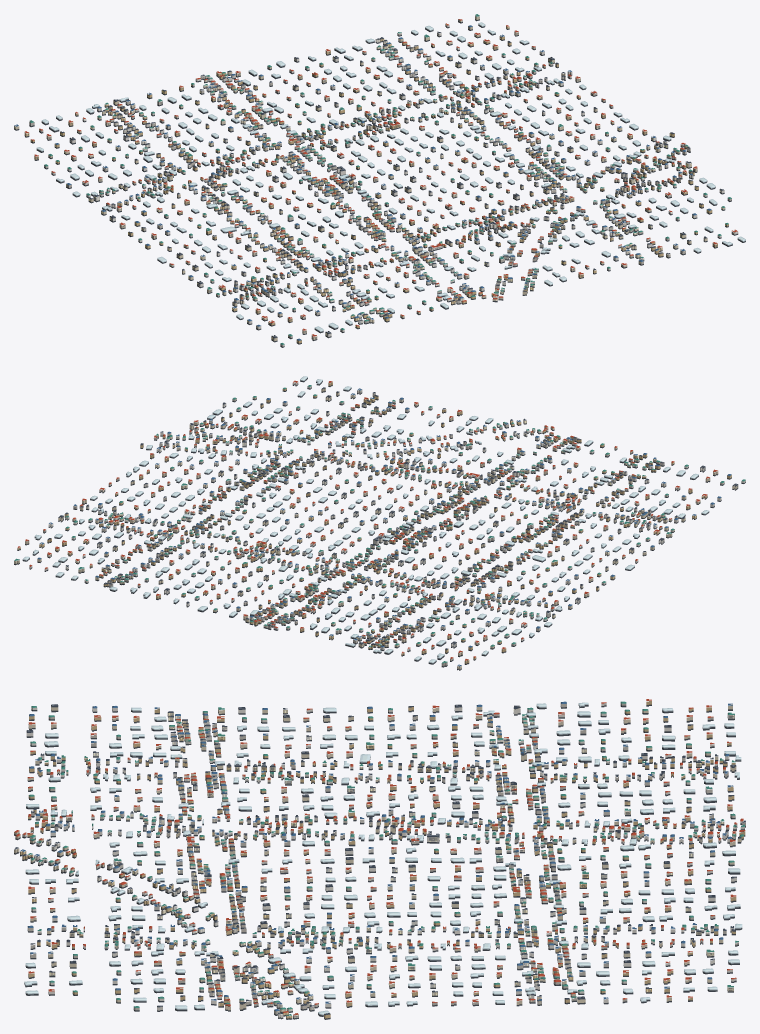
Rendered from osm_buildings_T_E00_N03.glb.
The picture shows the model from 3 angles, top to bottom: view 1: azimuth 30°, elevation 25°; view 2: azimuth 150°, elevation 25°; view 3: azimuth 270°, elevation 25°; orthographic projection. The views are drawn at different scales.
Visible parts, largest first — view 1: OSM_T_E00_N03_foundation, OSM_T_E00_N03_greenhouse_blend, OSM_T_E00_N03_wall_cream_stucco, OSM_T_E00_N03_wall_french_ochre, OSM_T_E00_N03_wall_warm_white, OSM_T_E00_N03_wall_pastel_sand, OSM_T_E00_N03_roof_terracotta, OSM_T_E00_N03_roof_mansard_slate, OSM_T_E00_N03_roof_mint_metal, OSM_T_E00_N03_roof_alpine_blue, OSM_T_E00_N03_balcony_railing; view 2: OSM_T_E00_N03_foundation, OSM_T_E00_N03_greenhouse_blend, OSM_T_E00_N03_wall_french_ochre, OSM_T_E00_N03_wall_cream_stucco, OSM_T_E00_N03_wall_warm_white, OSM_T_E00_N03_wall_pastel_sand, OSM_T_E00_N03_roof_terracotta, OSM_T_E00_N03_roof_mansard_slate, OSM_T_E00_N03_roof_mint_metal, OSM_T_E00_N03_roof_alpine_blue; view 3: OSM_T_E00_N03_foundation, OSM_T_E00_N03_greenhouse_blend, OSM_T_E00_N03_wall_cream_stucco, OSM_T_E00_N03_wall_french_ochre, OSM_T_E00_N03_wall_warm_white, OSM_T_E00_N03_wall_pastel_sand, OSM_T_E00_N03_roof_terracotta, OSM_T_E00_N03_roof_mansard_slate, OSM_T_E00_N03_roof_mint_metal, OSM_T_E00_N03_roof_alpine_blue, OSM_T_E00_N03_roof_mansard_deck.
Part boxes in pixels (<box>): OSM_T_E00_N03_foundation: <box>14,19,745,347</box>; OSM_T_E00_N03_greenhouse_blend: <box>36,22,745,331</box>; OSM_T_E00_N03_wall_cream_stucco: <box>14,15,725,341</box>; OSM_T_E00_N03_wall_french_ochre: <box>24,26,728,343</box>; OSM_T_E00_N03_wall_warm_white: <box>51,19,738,346</box>; OSM_T_E00_N03_wall_pastel_sand: <box>29,33,731,337</box>; OSM_T_E00_N03_roof_terracotta: <box>25,19,737,336</box>; OSM_T_E00_N03_roof_mansard_slate: <box>60,31,723,338</box>; OSM_T_E00_N03_roof_mint_metal: <box>30,14,731,344</box>; OSM_T_E00_N03_roof_alpine_blue: <box>14,25,711,340</box>; OSM_T_E00_N03_balcony_railing: <box>27,33,733,339</box>; OSM_T_E00_N03_foundation: <box>14,378,745,670</box>; OSM_T_E00_N03_greenhouse_blend: <box>22,376,709,663</box>; OSM_T_E00_N03_wall_french_ochre: <box>17,382,731,663</box>; OSM_T_E00_N03_wall_cream_stucco: <box>14,388,738,669</box>; OSM_T_E00_N03_wall_warm_white: <box>29,382,745,650</box>; OSM_T_E00_N03_wall_pastel_sand: <box>43,390,724,666</box>; OSM_T_E00_N03_roof_terracotta: <box>17,380,717,660</box>; OSM_T_E00_N03_roof_mansard_slate: <box>48,387,738,650</box>; OSM_T_E00_N03_roof_mint_metal: <box>14,385,745,663</box>; OSM_T_E00_N03_roof_alpine_blue: <box>37,388,731,666</box>; OSM_T_E00_N03_foundation: <box>14,704,745,1019</box>; OSM_T_E00_N03_greenhouse_blend: <box>24,702,742,1015</box>; OSM_T_E00_N03_wall_cream_stucco: <box>14,704,741,1011</box>; OSM_T_E00_N03_wall_french_ochre: <box>20,701,745,1018</box>; OSM_T_E00_N03_wall_warm_white: <box>22,703,744,1017</box>; OSM_T_E00_N03_wall_pastel_sand: <box>27,703,745,1018</box>; OSM_T_E00_N03_roof_terracotta: <box>14,699,745,1015</box>; OSM_T_E00_N03_roof_mansard_slate: <box>14,704,745,1015</box>; OSM_T_E00_N03_roof_mint_metal: <box>28,701,744,1015</box>; OSM_T_E00_N03_roof_alpine_blue: <box>20,701,733,1011</box>; OSM_T_E00_N03_roof_mansard_deck: <box>27,704,735,998</box>.
Bounding box in the file's own units: 1942 × 65.1 × 1933.
